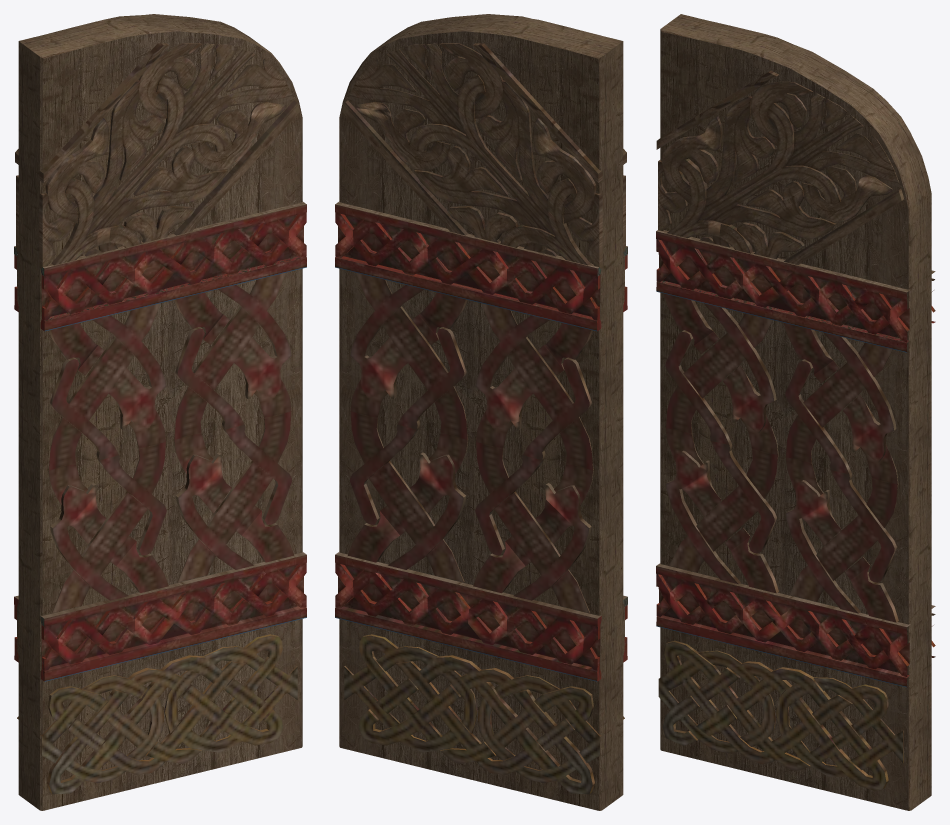
File: ING_INT_PH_VIK_LON_DoorDouble_INT_Right_01_LOD0-transformed.glb
The picture shows the model from 3 angles, left to right: view 1: azimuth 30°, elevation 25°; view 2: azimuth 150°, elevation 25°; view 3: azimuth 330°, elevation 25°; orthographic projection. The views are drawn at different scales.
Parts seen in each view (by area): view 1: default; view 2: default; view 3: default.
Part boxes in pixels (left/top/right/bottom): default: left=14, top=14, right=306, bottom=810; default: left=335, top=14, right=627, bottom=810; default: left=656, top=14, right=935, bottom=810.
Size of the model in its own units: 1.54 by 4.23 by 0.3071.
4 materials, 4 textured.
